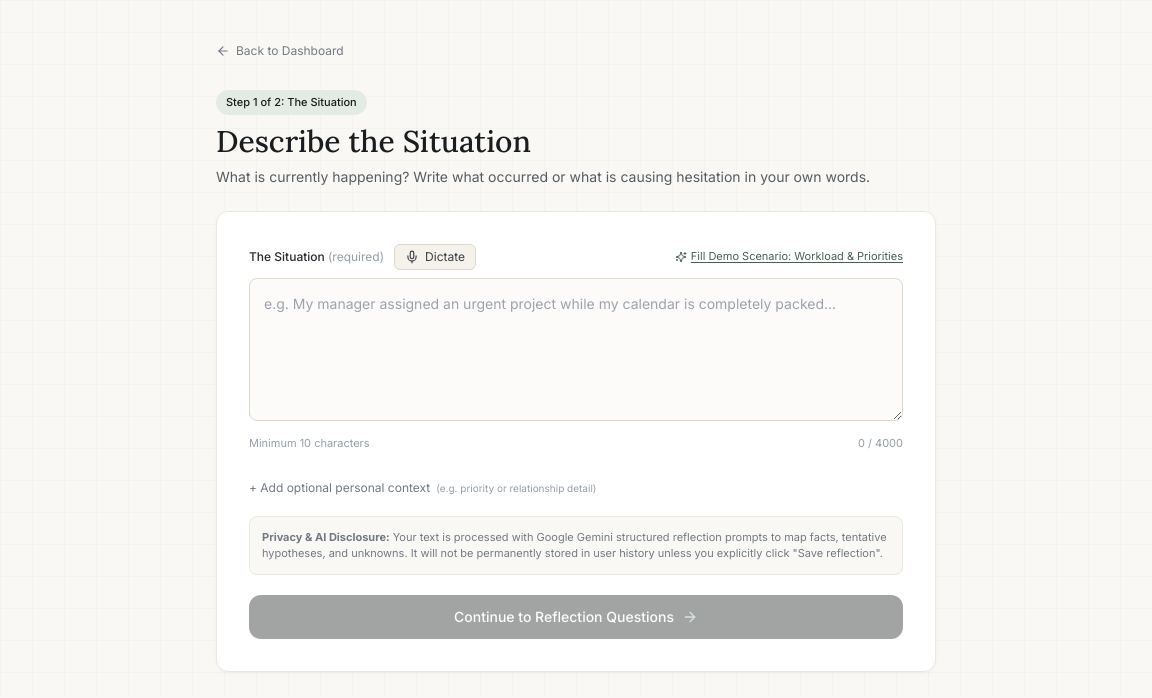
Test case: SituationEntryPage Component — Phase 2 Journey › populates realistic workplace scenario and optional context when Fill Demo Scenario clicked
Click the button "Fill Demo Scenario: Workload & Priorities" at (789, 257), box [675,248,903,265]
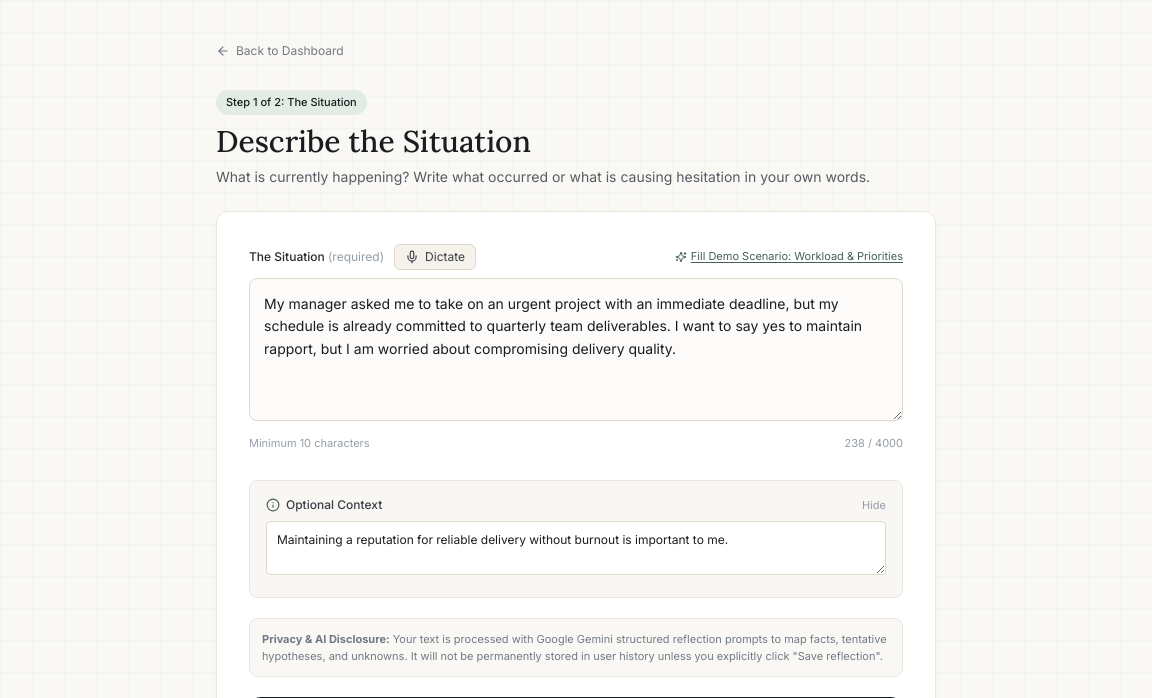
Check: the text box showing "My manager asked me to take on an urgent project" is shown, box [249,278,903,421]
Check: the text box showing "Maintaining a reputation for reliable delivery without burnout" is shown, box [266,521,886,575]
